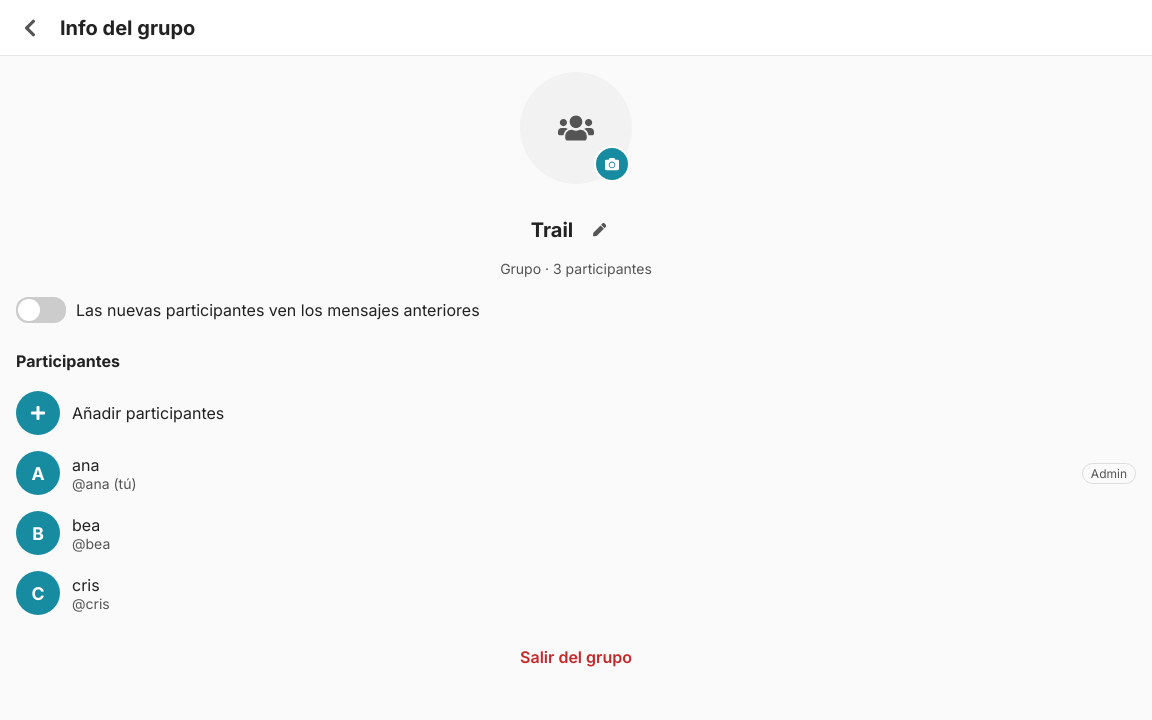
Test case: GroupInfoPanel (T12, T29r) › does not expel if the admin cancels the confirmation
Click the button with aria-label "Opciones de cris". click: [38, 593]
box: [0,563,1151,623]
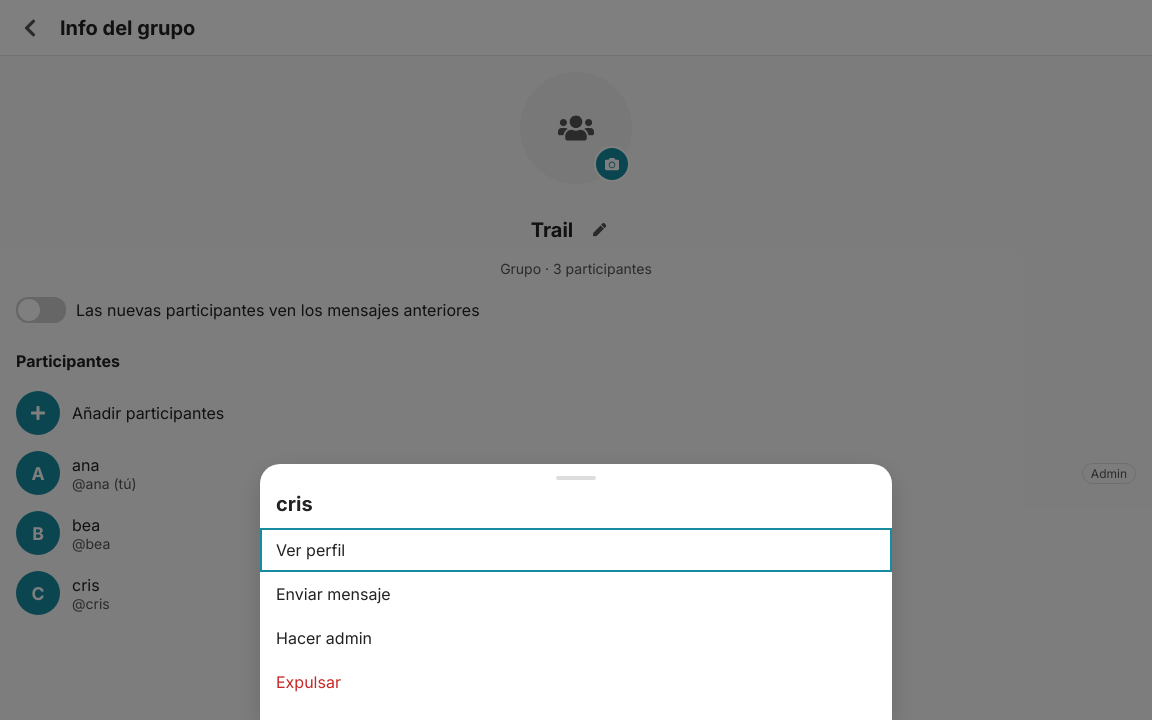
Click the button "Expulsar". click: [308, 682]
box: [260,660,892,704]
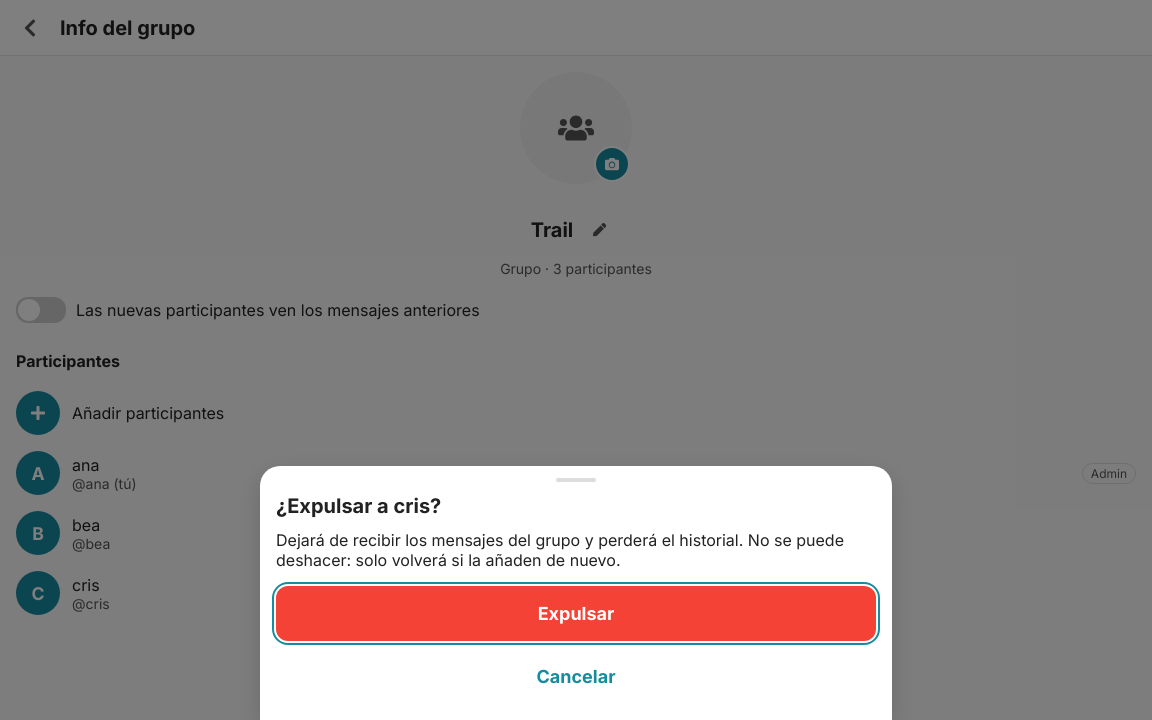
Click the button "Cancelar". click: [576, 676]
box: [276,649,876,704]
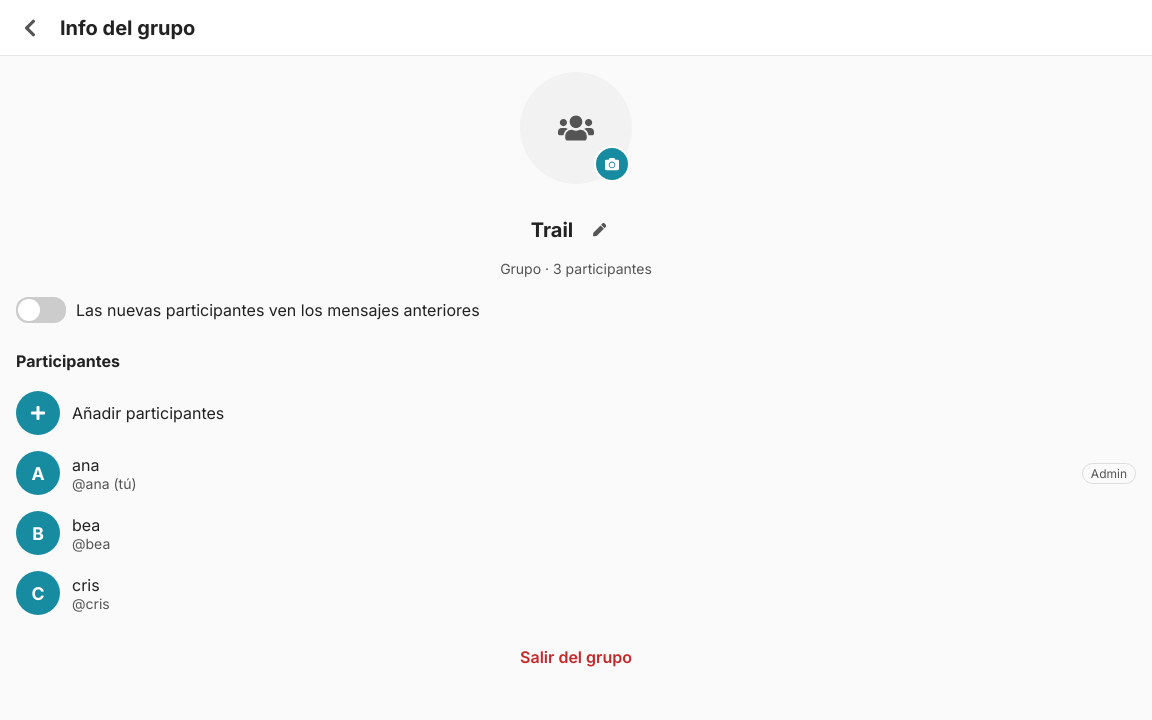
Now the heading "¿Expulsar a cris?" is gone
